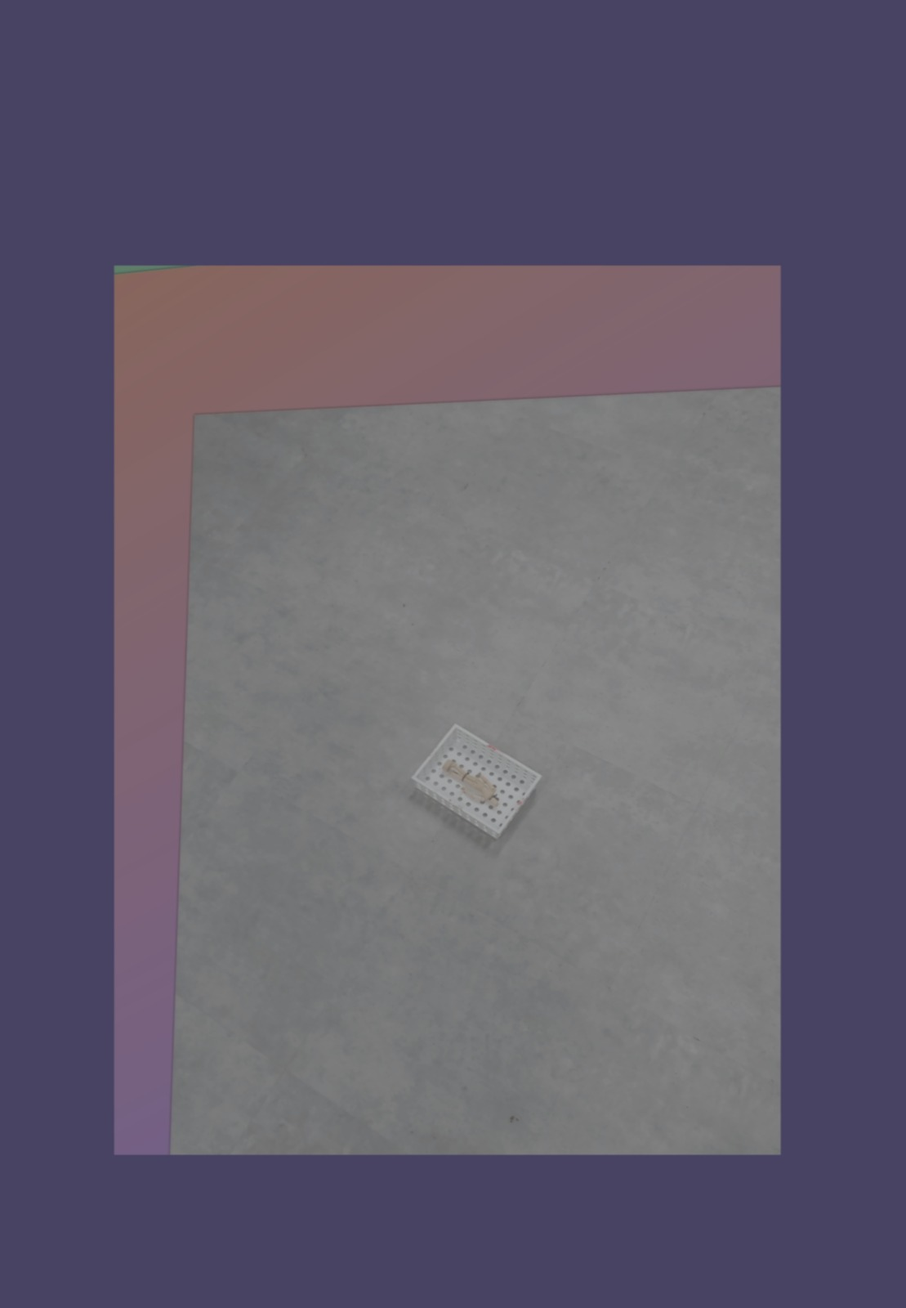basket: (409, 720, 546, 841)
mannequin: (440, 759, 501, 808)
